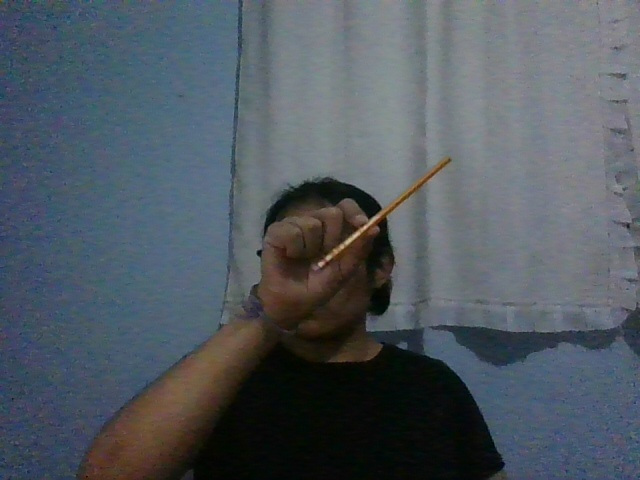lapiz: (310, 155, 452, 273)
